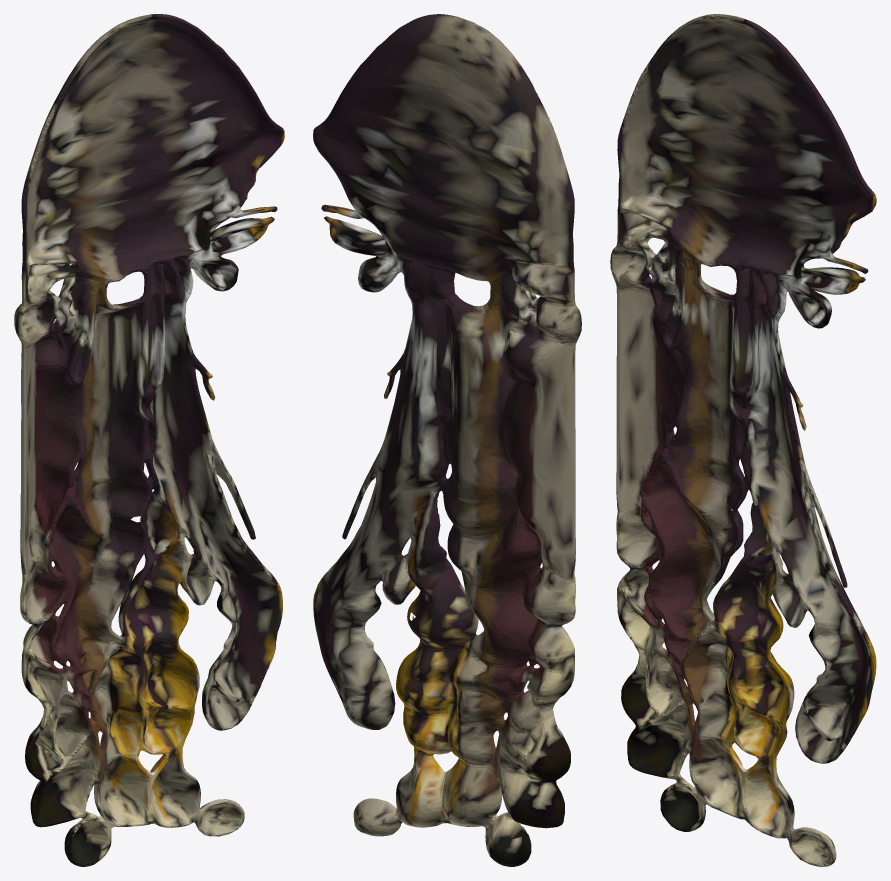
File: waterGhost.glb
3 views of the same model, side by side, from view 1: azimuth 30°, elevation 25°; view 2: azimuth 150°, elevation 25°; view 3: azimuth 330°, elevation 25° (orthographic).
Parts seen in each view (by area): view 1: world; view 2: world; view 3: world.
Part boxes in pixels (x1,y1,x2,y2): world: (14,14,284,866); world: (313,14,581,866); world: (610,14,876,866).
Size of the model in its own units: 0.3343 by 1 by 0.0435.
